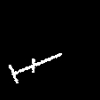double_crochet: (9, 53, 61, 82)
